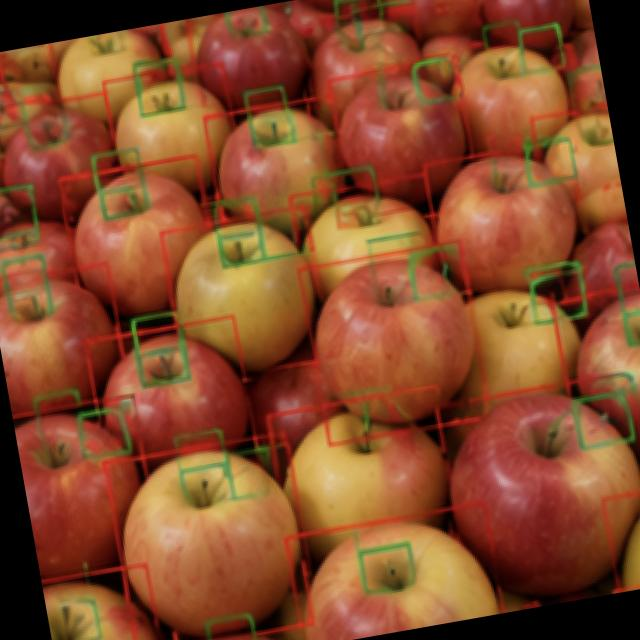Fruit-Stem-Detection: (513, 402, 612, 494), (165, 456, 258, 540), (374, 536, 464, 606), (188, 222, 274, 290), (384, 70, 458, 146), (31, 406, 98, 489), (331, 196, 415, 258), (342, 407, 409, 482), (467, 54, 538, 122), (230, 104, 305, 168), (136, 332, 194, 401), (484, 286, 550, 346), (103, 172, 157, 242), (0, 283, 57, 349), (326, 17, 394, 72), (483, 154, 536, 222), (344, 257, 404, 313), (577, 108, 620, 185), (142, 68, 192, 132), (237, 12, 286, 68), (26, 99, 72, 158), (48, 586, 96, 640), (1, 221, 47, 261), (614, 311, 640, 376), (83, 31, 123, 71)
